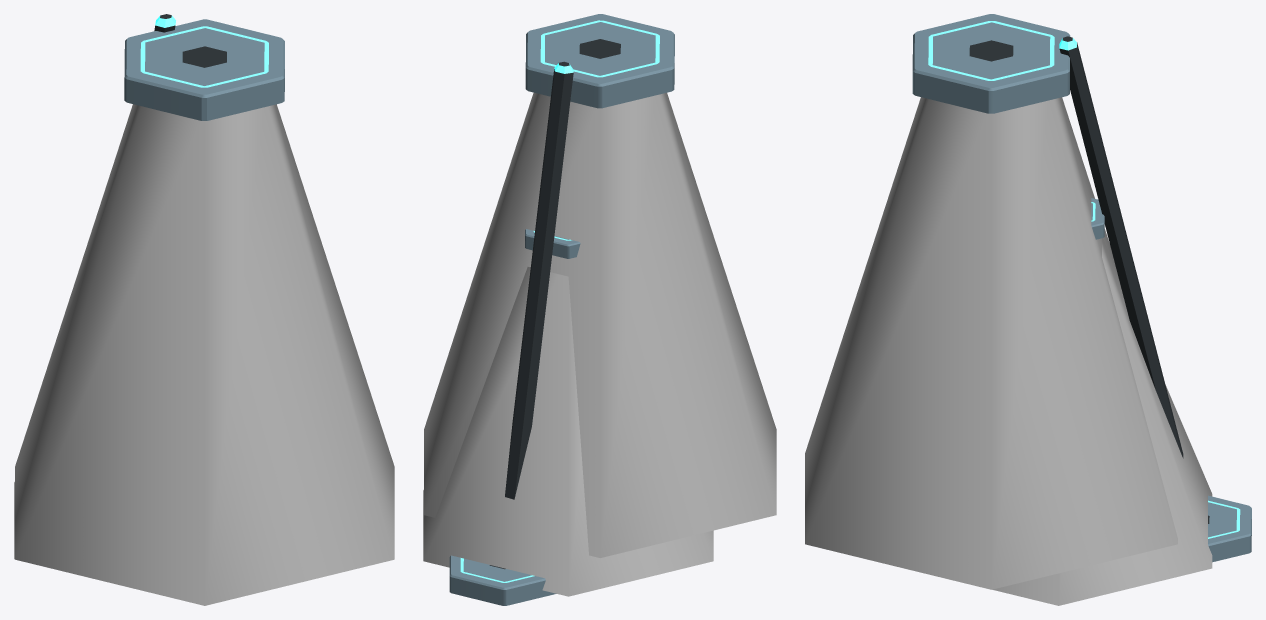
File: Aero_Lampost_01_Art.fbx
3 views of the same model, side by side, from view 1: azimuth 30°, elevation 25°; view 2: azimuth 150°, elevation 25°; view 3: azimuth 270°, elevation 25° (orthographic). The views are drawn at different scales.
Parts seen in each view (by area): view 1: Ray_light_01, Aero_Lampost_01; view 2: Ray_light_01, Ray_light_02, Aero_Lampost_01; view 3: Ray_light_01, Aero_Lampost_01, Ray_light_02.
Part boxes in pixels (x1,y1,x2,y2): Ray_light_01: [15, 104, 394, 605]; Aero_Lampost_01: [124, 14, 284, 120]; Ray_light_01: [424, 92, 776, 557]; Ray_light_02: [423, 267, 713, 596]; Aero_Lampost_01: [449, 14, 674, 605]; Ray_light_01: [805, 97, 1177, 589]; Aero_Lampost_01: [912, 14, 1251, 562]; Ray_light_02: [992, 238, 1212, 605].
Size of the model in its own units: 632 by 821 by 656.
